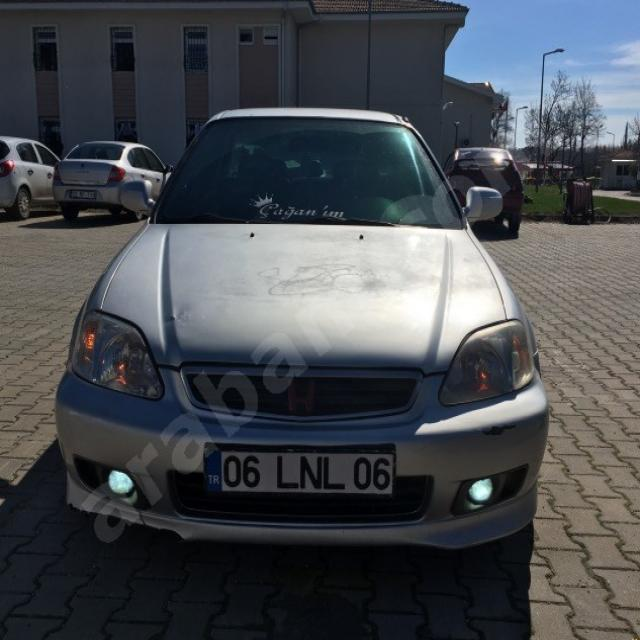license_plate: (206, 448, 394, 495)
